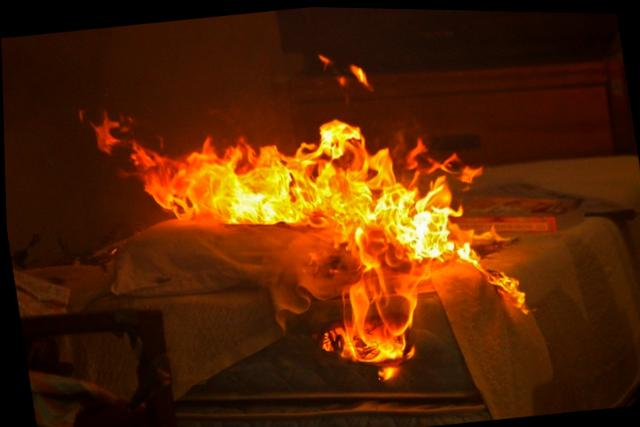fire: (75, 39, 538, 394)
